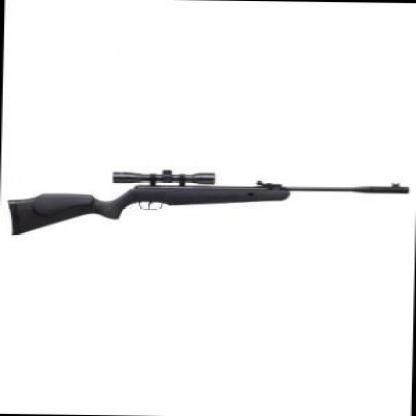rifle: (1, 164, 409, 236)
